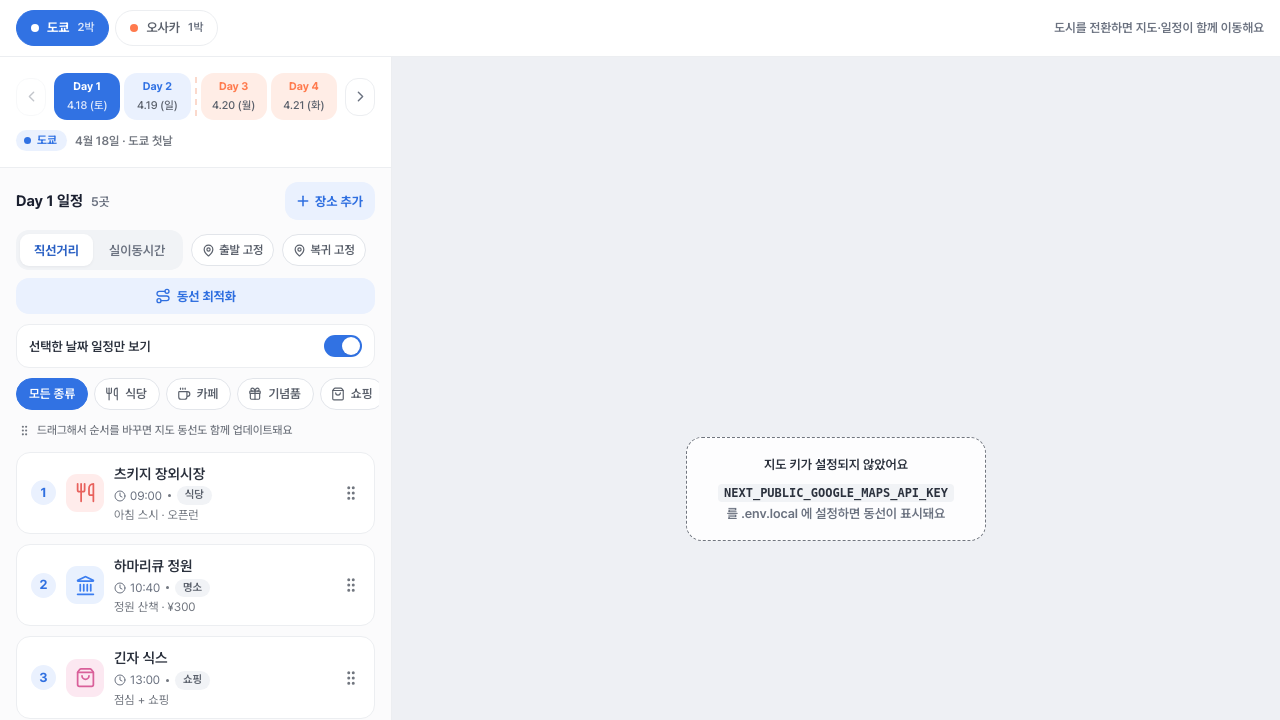
PlanView — 다중 도시 › 도시 탭 클릭 시 그 도시 첫날로 이동한다
expect the text "츠키지 장외시장" is shown: met, box left=114, top=464, right=205, bottom=482
Click the tab "오사카 1박". click: coordinates (167, 28)
box: left=115, top=10, right=218, bottom=46
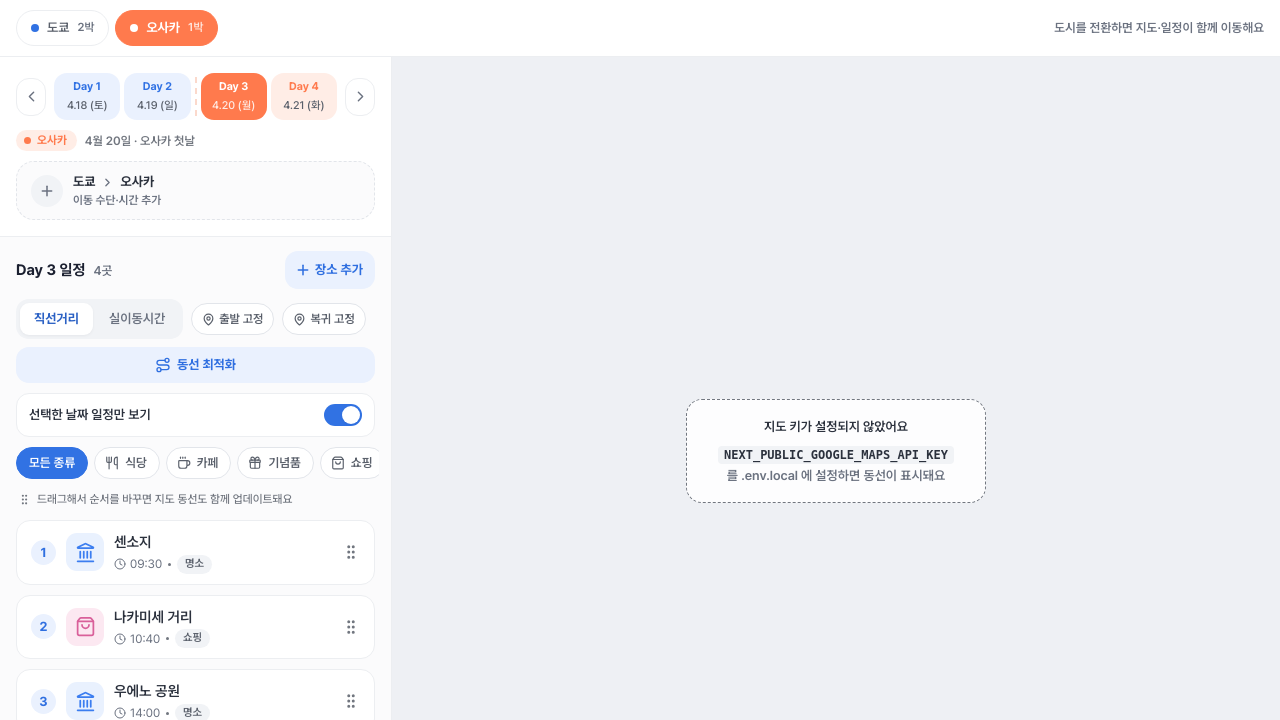
expect the text "센소지" is shown: met, box left=114, top=533, right=152, bottom=550
expect the button "츠키지 장외시장" is gone: met
